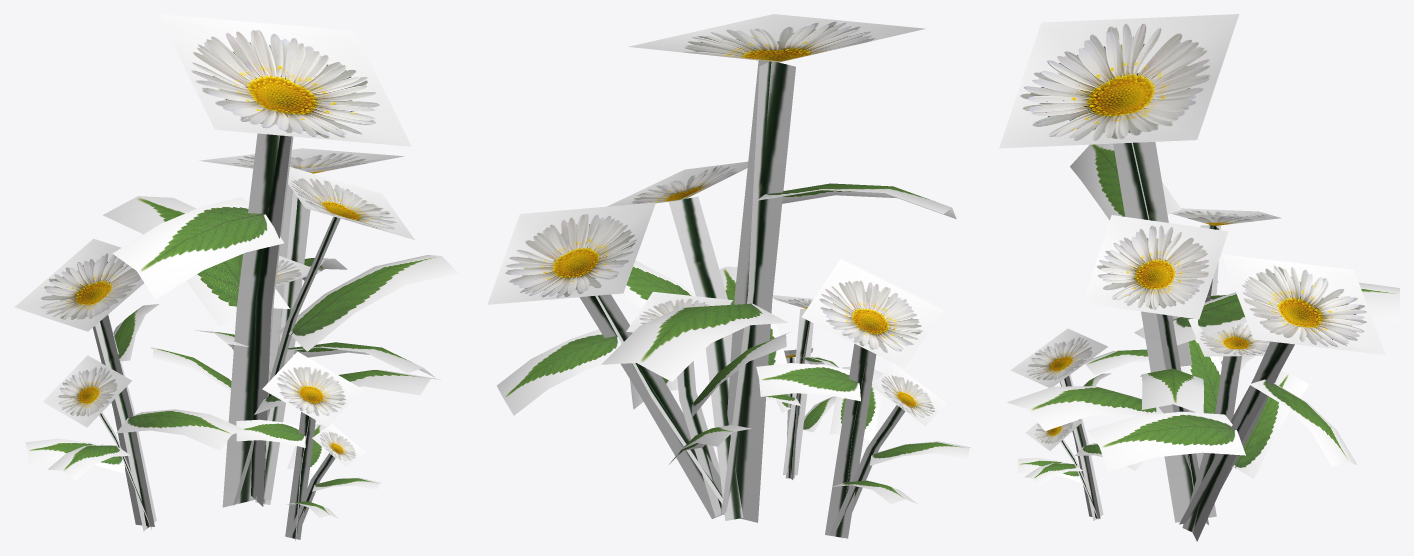
The model's file is daisy.fbx.
3 views of the same model, side by side, from view 1: azimuth 30°, elevation 25°; view 2: azimuth 150°, elevation 25°; view 3: azimuth 270°, elevation 25° (orthographic). The views are drawn at different scales.
Parts seen in each view (by area): view 1: Daisy; view 2: Daisy; view 3: Daisy.
Boxes of the visible parts, box(x1,y1,x2,y2) form: Daisy: box(14, 14, 458, 540); Daisy: box(487, 14, 970, 538); Daisy: box(999, 14, 1399, 541).
Bounding box in the file's own units: 120 × 141 × 106.
1 material, 1 textured.
